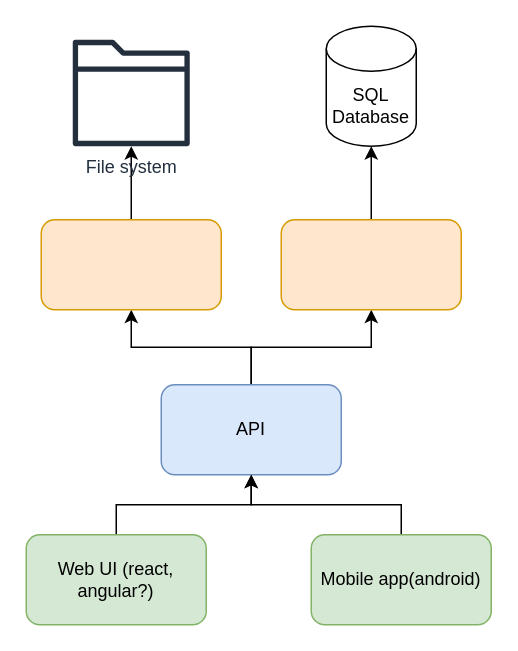
This 518x651 diagram has some shape labels left out. The shapes that lost their labels are listed below. From the top down, each one's centre as x and y in pixels, then its label:
point (130, 264): File system layer
point (370, 264): Data access layer
